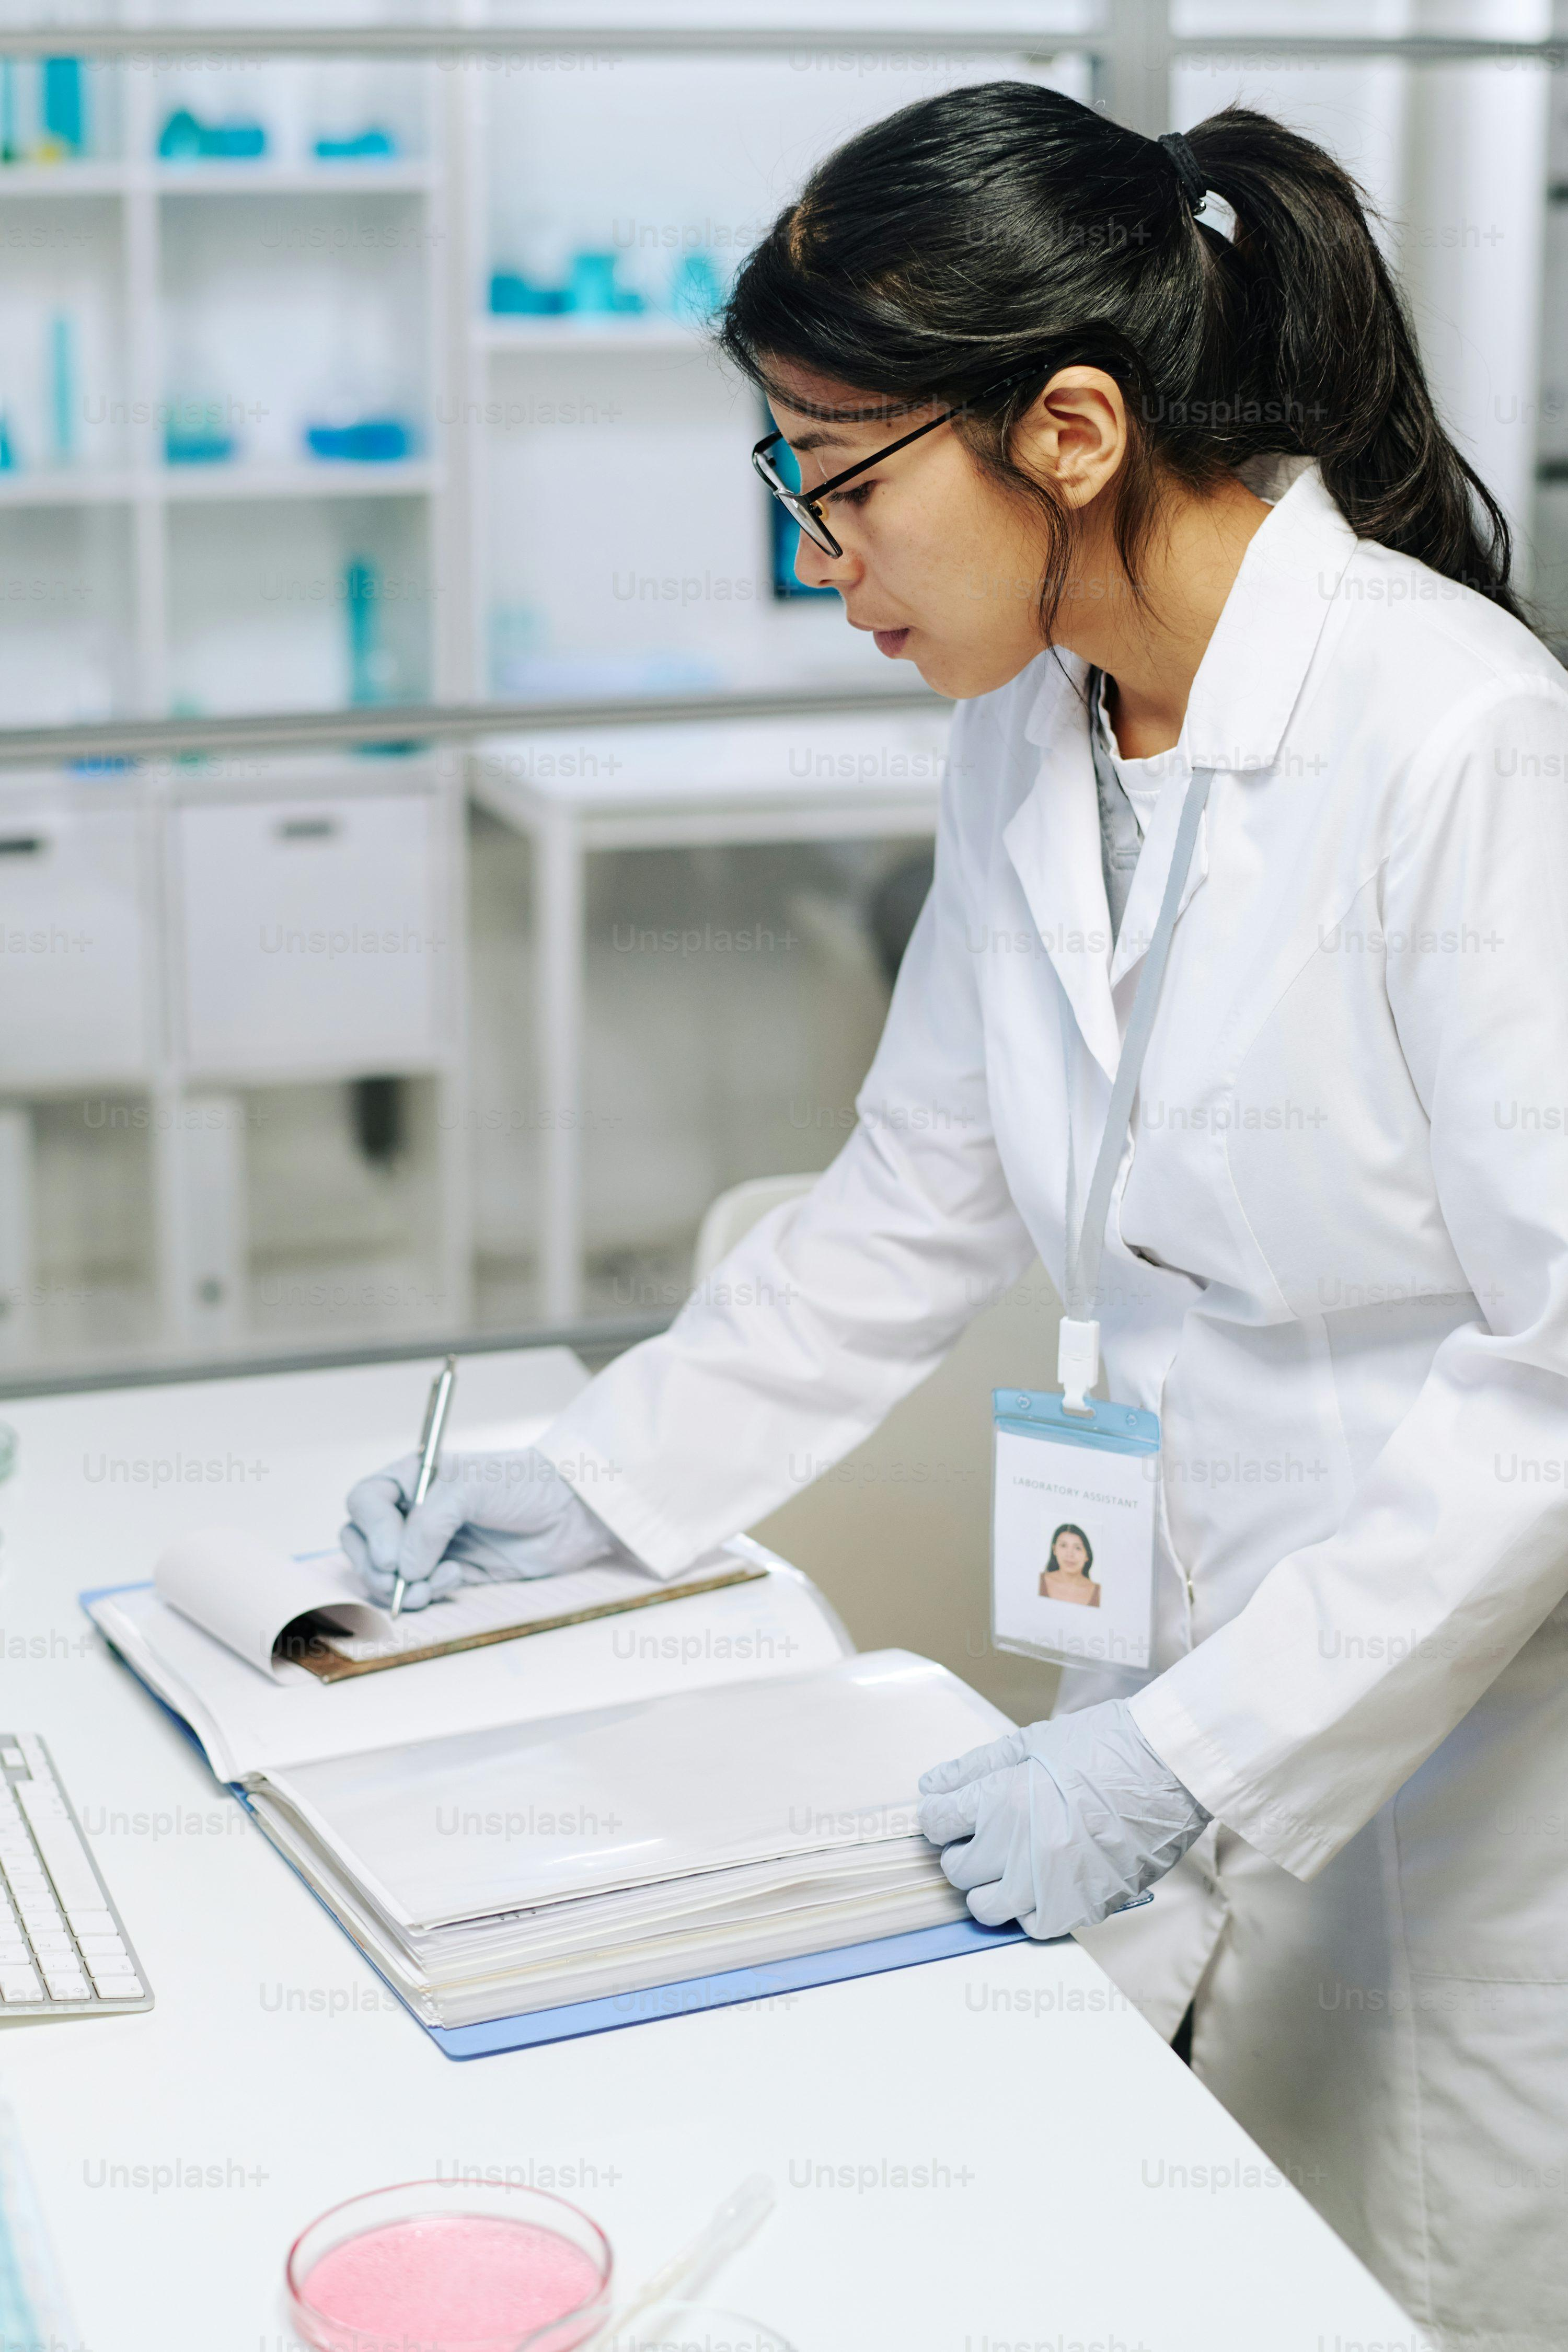Bata-Correcta: (348, 84, 1568, 2352)
